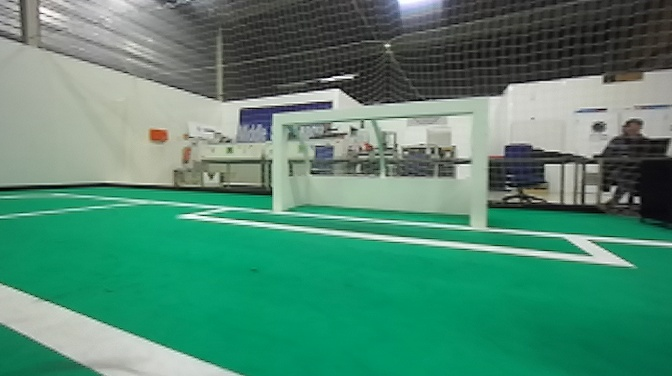goalpost: (464, 89, 502, 240), (267, 101, 294, 216)
